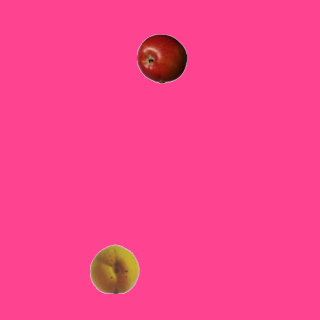Apple Braeburn: (136, 33, 186, 83)
Peach 2: (89, 243, 139, 293)
